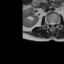CCS_normal: (51, 20, 53, 27)
LFS_normal: (55, 21, 57, 26)
LLS_normal: (53, 20, 55, 26)
RFS_normal: (48, 20, 50, 26)
RLS_normal: (50, 20, 51, 26)
